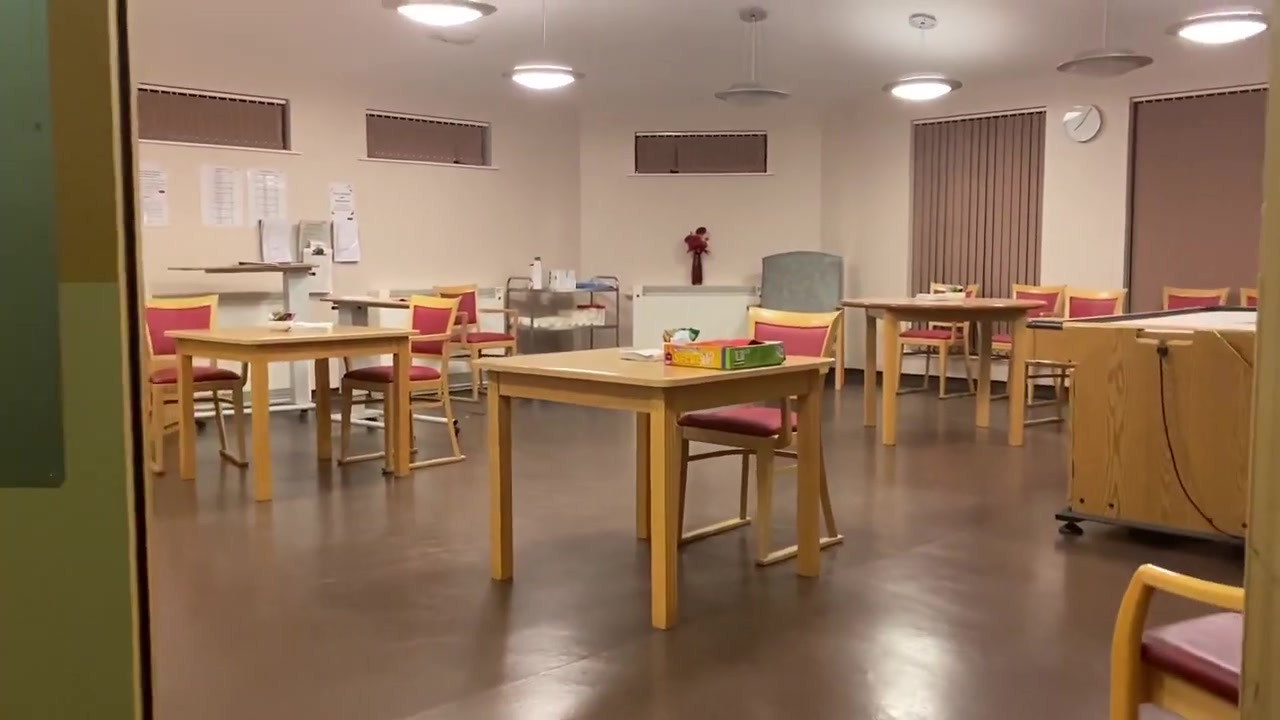chair: (677, 306, 845, 567), (337, 295, 467, 475), (1108, 563, 1245, 720), (147, 294, 249, 474), (746, 250, 845, 392), (746, 250, 845, 389), (430, 282, 519, 402), (895, 283, 980, 399), (989, 283, 1069, 406), (1063, 287, 1128, 318), (1161, 285, 1232, 309)
table: (471, 347, 835, 630), (163, 322, 420, 502), (842, 296, 1047, 445), (167, 258, 321, 423), (319, 295, 458, 430)
utility_cart: (506, 276, 620, 355)
